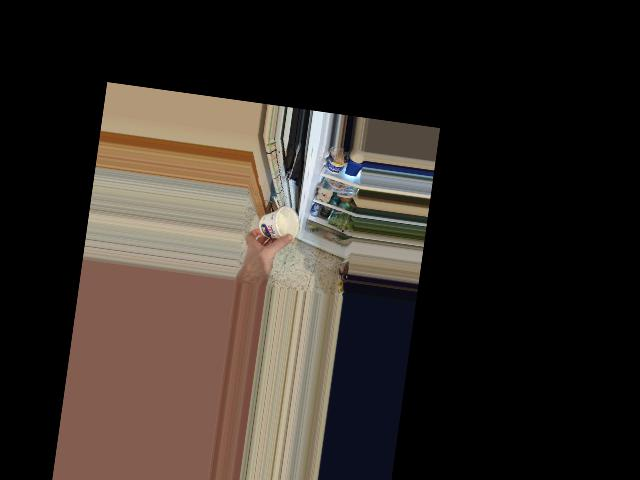cotage: (258, 206, 294, 240)
